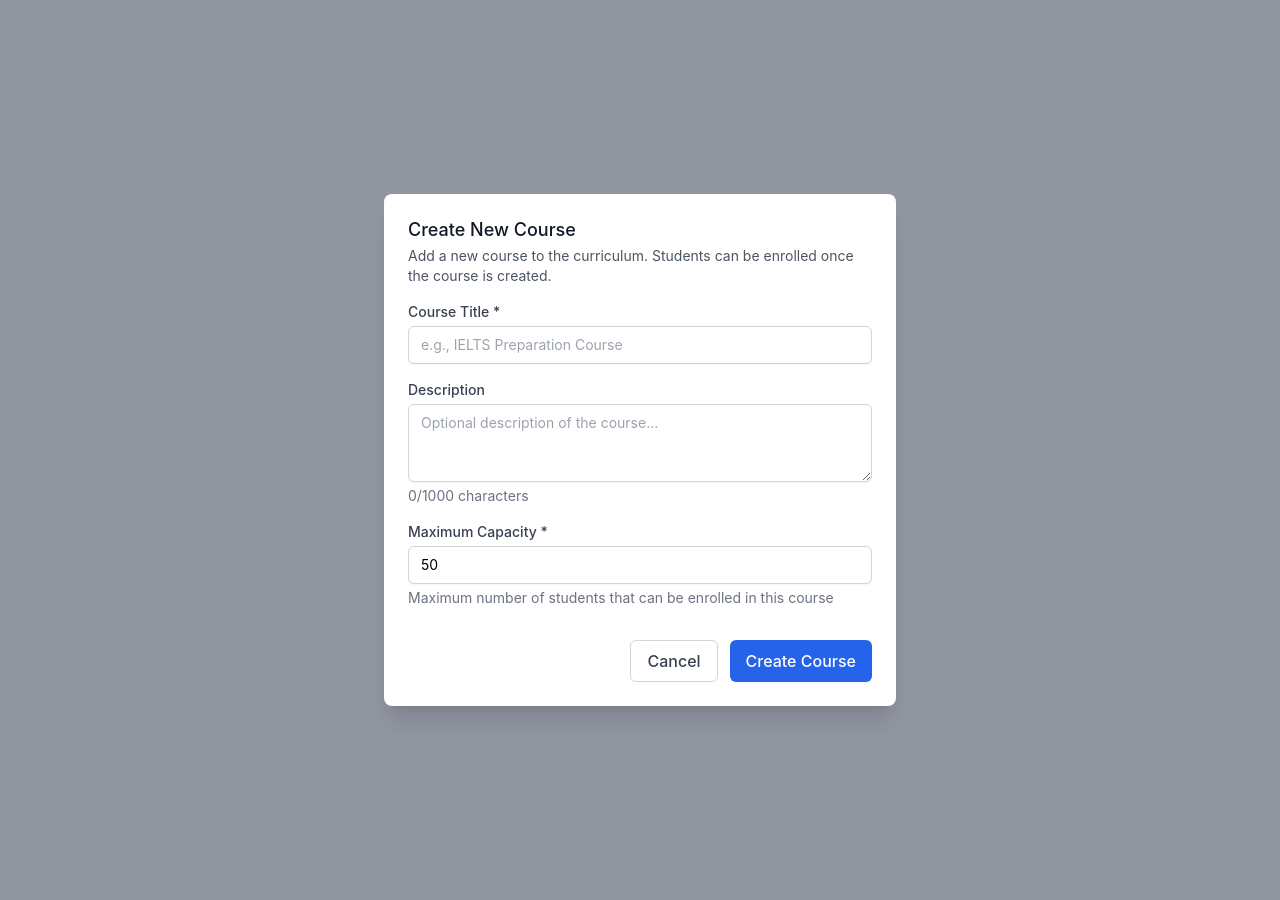
CourseForm › handles API errors
Type "Test Course" into the field labelled "Course Title *" at (640, 345), box [408,326,872,364]
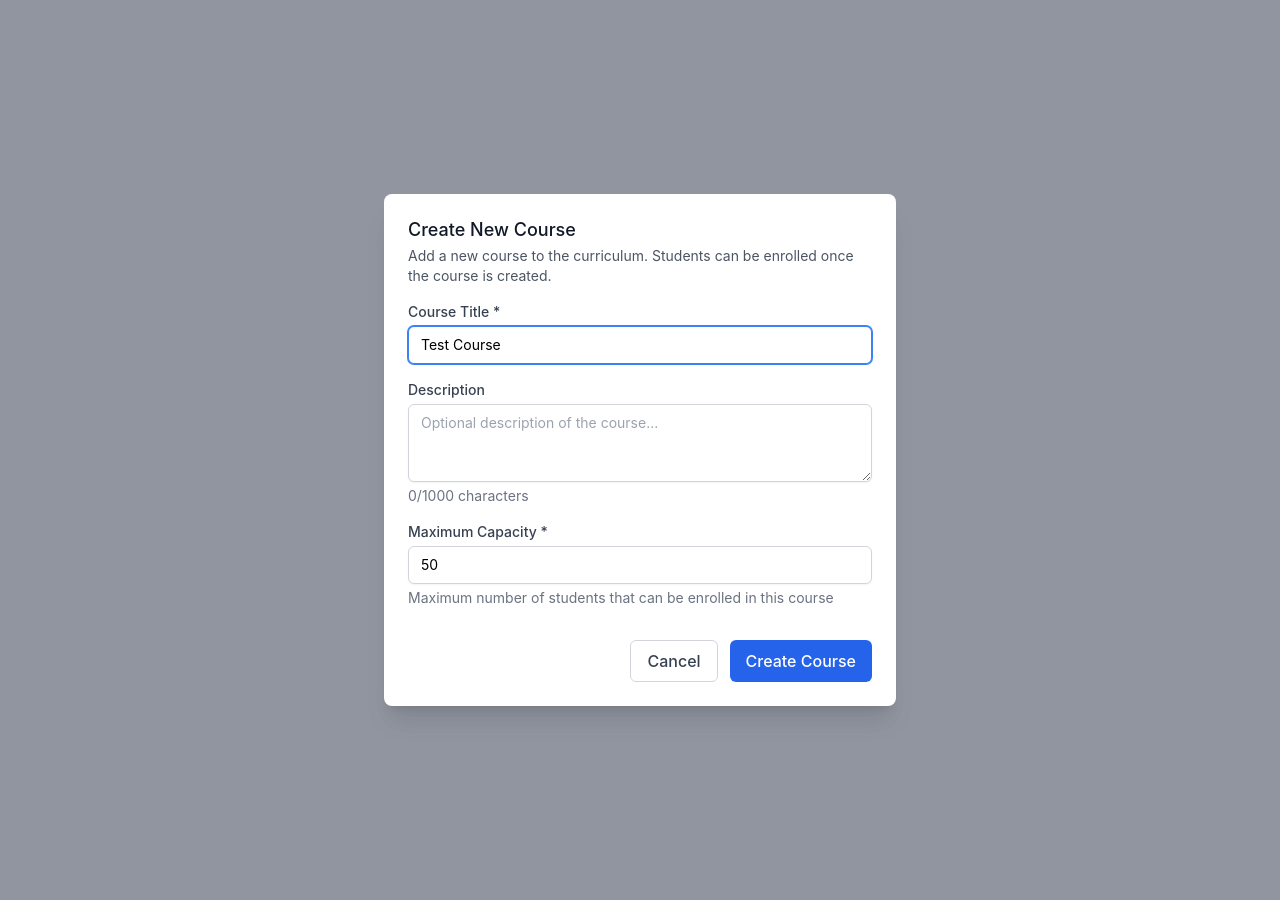
Click the button "Create Course" at (801, 661), box [730,640,872,682]
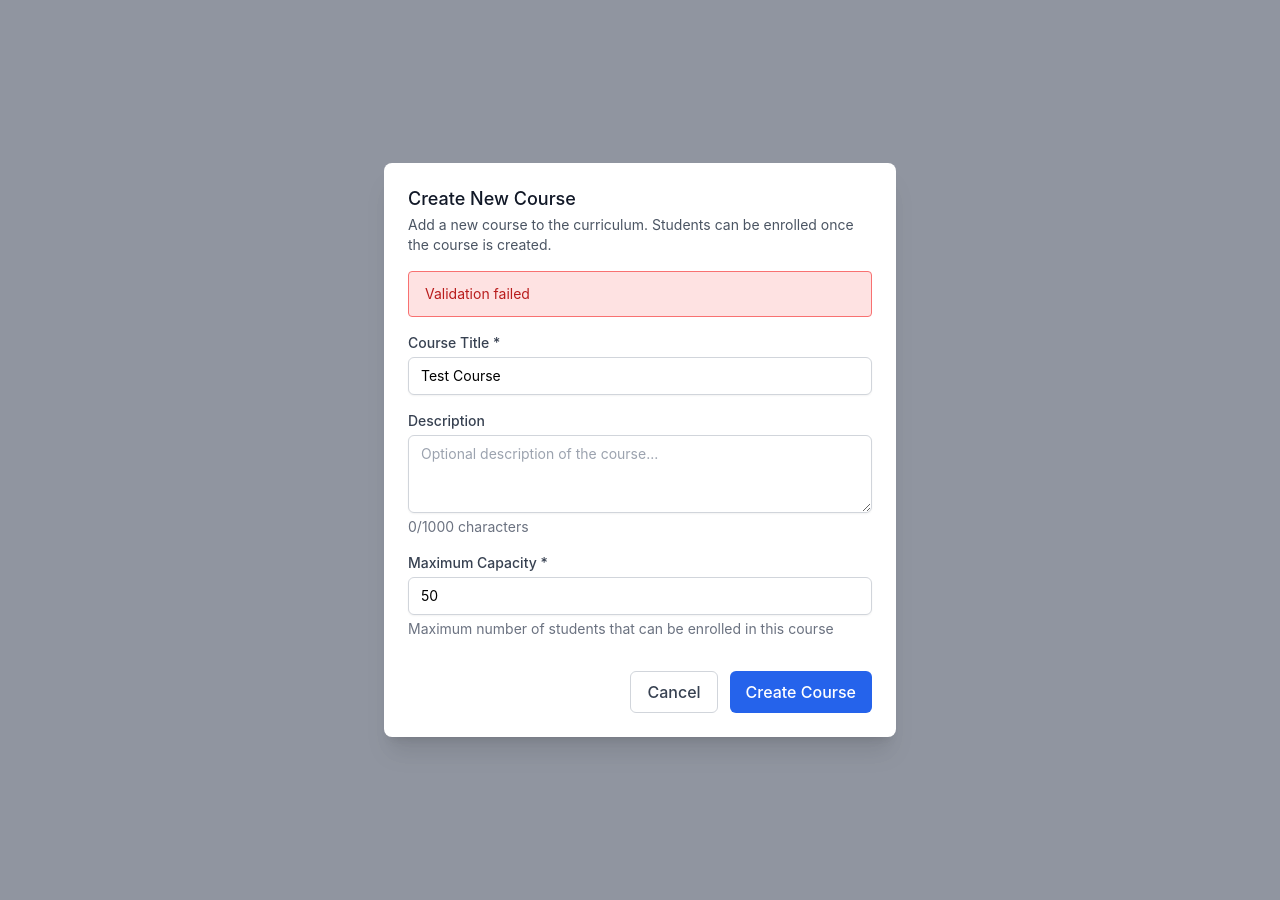
expect the text "Validation failed" is shown: met, box [425,285,530,302]
